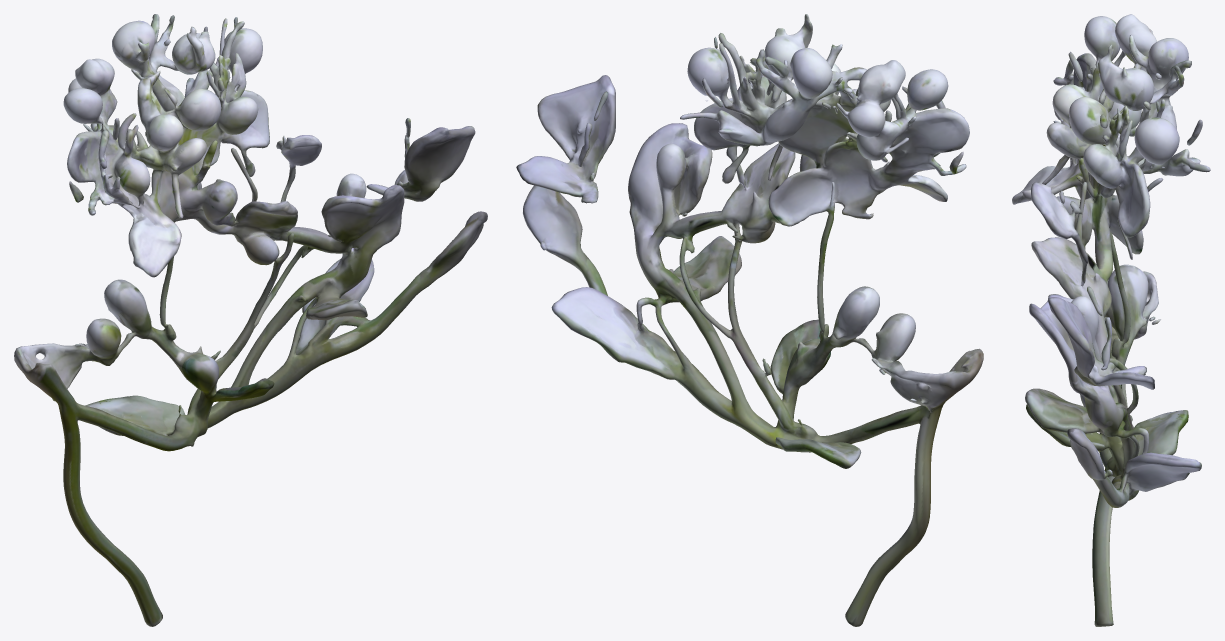
The model's file is herb0071_dup.gltf.
The picture shows the model from 3 angles, left to right: view 1: azimuth 30°, elevation 25°; view 2: azimuth 150°, elevation 25°; view 3: azimuth 270°, elevation 25°; orthographic projection. The views are drawn at different scales.
Parts seen in each view (by area): view 1: Mesh_0.022; view 2: Mesh_0.022; view 3: Mesh_0.022.
Part boxes in pixels (x1,y1,x2,y2): Mesh_0.022: [14, 14, 487, 626]; Mesh_0.022: [516, 14, 983, 626]; Mesh_0.022: [1012, 14, 1210, 626].
Bounding box in the file's own units: 1.6 × 2 × 0.5934.
Materials: 1 (1 with a texture image).
